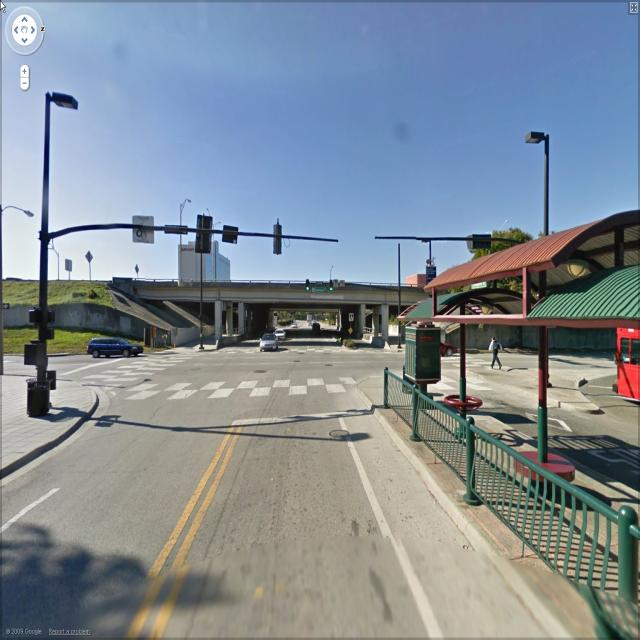b_1: (168, 234, 234, 292)
